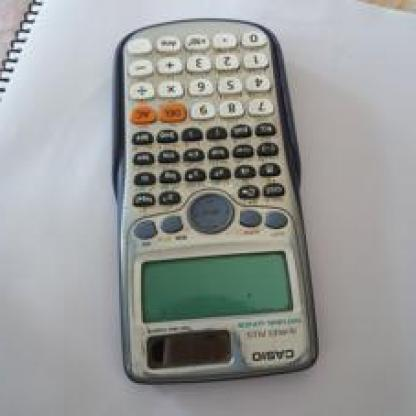calculator: (110, 10, 321, 380)
